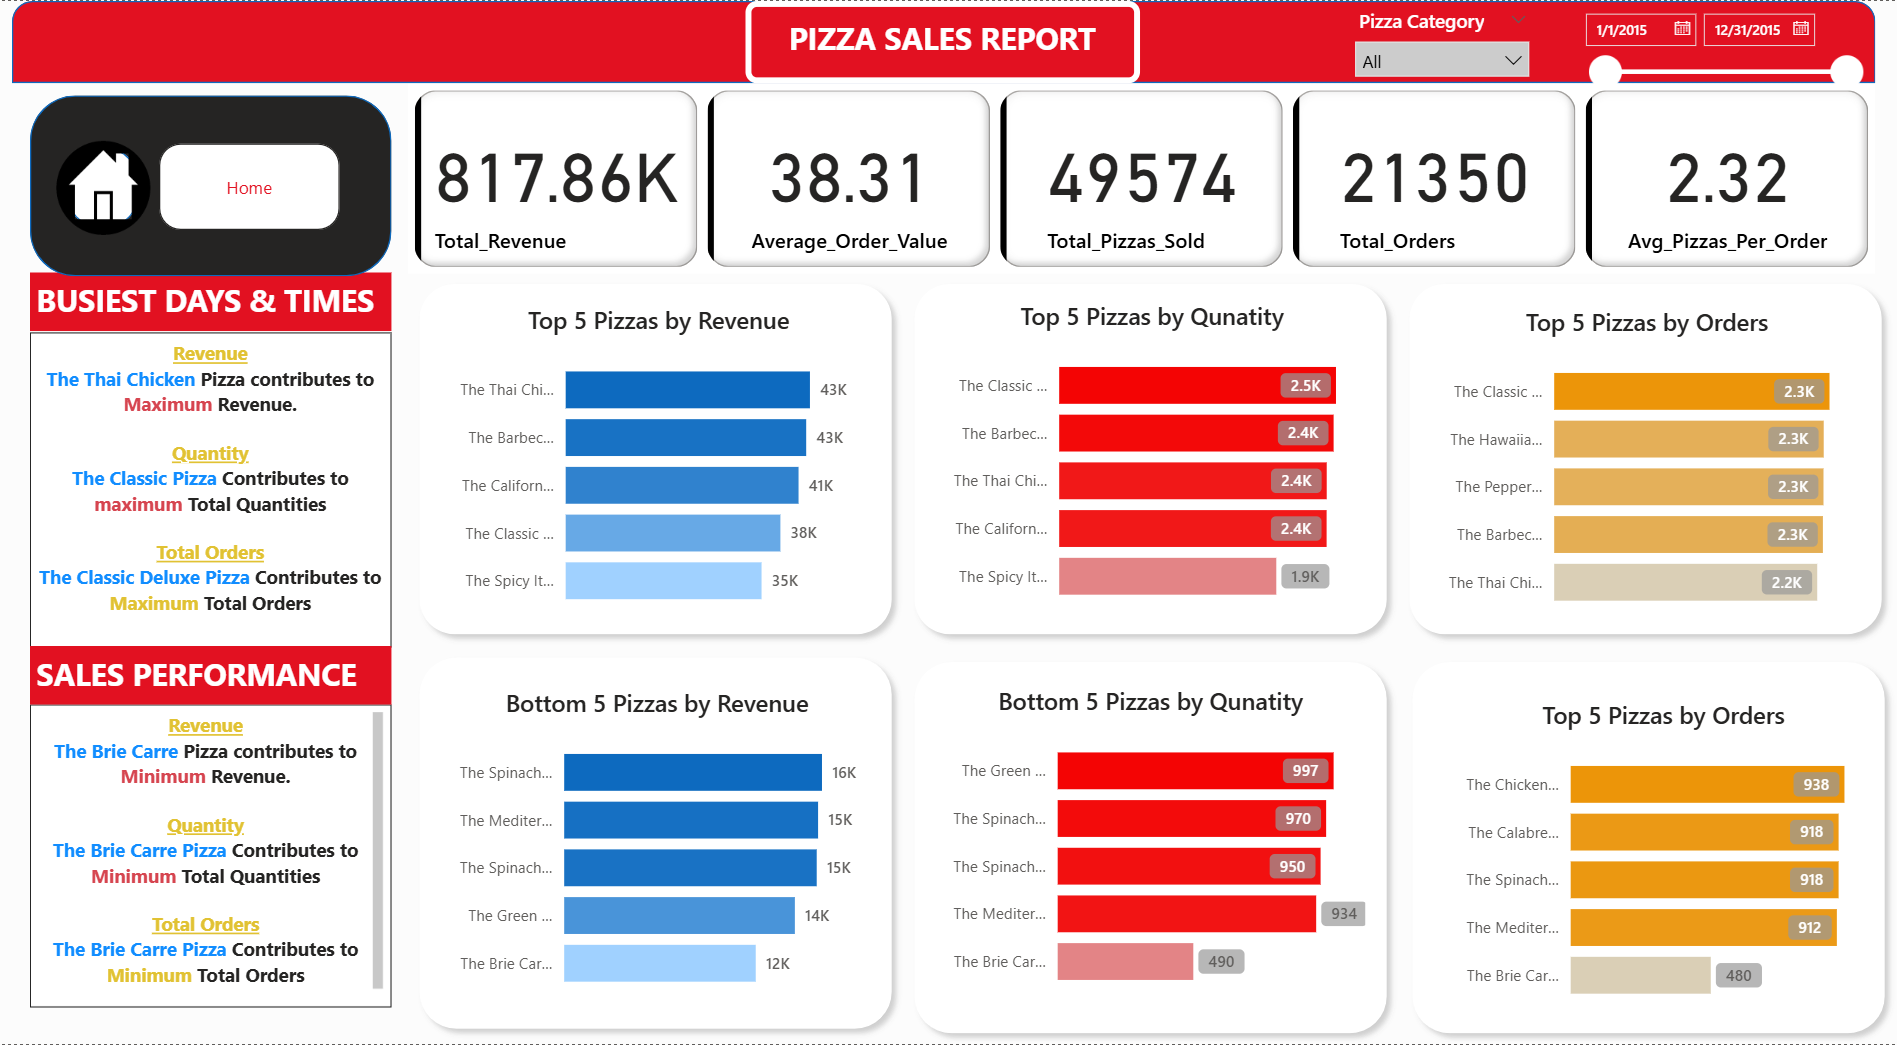

The page's visual inventory and layout, read from the dashboard file:
{"tool":"powerbi","page":{"name":"Best/Worst Sellers","canvas":[1500,820],"ordinal":1},"visuals":[{"type":"cardVisual","fields":{"Data":["pizza_sales.Total_Revenue","pizza_sales.Average_Order_Value","pizza_sales.Total_Pizzas_Sold","pizza_sales.Total_Orders","pizza_sales.Avg_Pizzas_Per_Order"]},"box":[330.1,64.5,1152.6,149.4],"z":1000},{"type":"shape","box":[18.4,0,1464.2,64.5],"z":2000},{"type":"textbox","box":[595.7,0,309.8,64.5],"z":3000},{"type":"shape","box":[330.1,213.9,389.1,293.2],"z":4000},{"type":"textbox","box":[33.2,213.9,284,46.1],"z":5000},{"type":"textbox","box":[33.2,260,284,247.1],"z":6000},{"type":"textbox","box":[33.2,553.2,284,237.9],"z":7000},{"type":"textbox","box":[33.2,507.1,284,46.1],"z":8000},{"type":"slicer","fields":{"Values":["pizza_sales.pizza_category"]},"box":[1064.1,0,156.8,73.8],"z":9000},{"type":"slicer","fields":{"Values":["pizza_sales.order_date"]},"box":[1242.4,0,239.3,74.6],"z":10000},{"type":"shape","box":[330.1,507.1,389.1,309.8],"z":11000},{"type":"shape","box":[719.2,213.9,389.1,293.2],"z":12000},{"type":"shape","box":[1108.3,213.9,389.1,293.2],"z":13000},{"type":"shape","box":[719.2,510.8,389.1,309.8],"z":14000},{"type":"shape","box":[1110.2,510.8,389.1,309.8],"z":15000},{"type":"barChart","title":"Top 5 Pizzas by Revenue","fields":{"Category":["pizza_sales.pizza_name"],"Y":["pizza_sales.Total_Revenue"]},"box":[354.1,237.9,346.7,252.6],"z":16000},{"type":"barChart","title":"Bottom 5 Pizzas by Revenue","fields":{"Category":["pizza_sales.pizza_name"],"Y":["pizza_sales.Total_Revenue"]},"box":[352.2,538.5,346.7,252.6],"z":17000},{"type":"barChart","title":"Top 5 Pizzas by Qunatity","fields":{"Category":["pizza_sales.pizza_name"],"Y":["pizza_sales.Total_Pizzas_Sold"]},"box":[741.3,234.2,346.7,252.6],"z":18000},{"type":"barChart","title":"Bottom 5 Pizzas by Qunatity","fields":{"Category":["pizza_sales.pizza_name"],"Y":["pizza_sales.Total_Pizzas_Sold"]},"box":[739.8,537.8,346.8,252.4],"z":19000},{"type":"barChart","title":"Top 5 Pizzas by Orders","fields":{"Category":["pizza_sales.pizza_name"],"Y":["pizza_sales.Total_Orders"]},"box":[1130.4,239.7,346.7,252.6],"z":20000},{"type":"barChart","title":"Top 5 Pizzas by Orders","fields":{"Category":["pizza_sales.pizza_name"],"Y":["pizza_sales.Total_Orders"]},"box":[1143.4,547.7,346.7,252.6],"z":21000},{"type":"shape","box":[33.2,73.8,284,142],"z":22000},{"type":"pageNavigator","box":[134.6,112.2,142.8,68.3],"z":23000},{"type":"shape","box":[60.2,114.2,60.2,65],"z":24000},{"type":"image","box":[47.9,102,84.7,88.7],"z":25000}]}

Visuals, with their boxes in screenshot pixels (x1, y1, x2, y2), scaled from the page's 1500x820 canvas onto the 1897x1045 screenshot:
cardVisual - pizza_sales.Total_Revenue x pizza_sales.Average_Order_Value: [x1=417, y1=82, x2=1875, y2=273]
shape: [x1=23, y1=0, x2=1875, y2=82]
textbox: [x1=753, y1=0, x2=1145, y2=82]
shape: [x1=417, y1=273, x2=910, y2=646]
textbox: [x1=42, y1=273, x2=401, y2=331]
textbox: [x1=42, y1=331, x2=401, y2=646]
textbox: [x1=42, y1=705, x2=401, y2=1008]
textbox: [x1=42, y1=646, x2=401, y2=705]
slicer - pizza_sales.pizza_category: [x1=1346, y1=0, x2=1544, y2=94]
slicer - pizza_sales.order_date: [x1=1571, y1=0, x2=1874, y2=95]
shape: [x1=417, y1=646, x2=910, y2=1041]
shape: [x1=910, y1=273, x2=1402, y2=646]
shape: [x1=1402, y1=273, x2=1894, y2=646]
shape: [x1=910, y1=651, x2=1402, y2=1044]
shape: [x1=1404, y1=651, x2=1896, y2=1044]
"Top 5 Pizzas by Revenue" barChart: [x1=448, y1=303, x2=886, y2=625]
"Bottom 5 Pizzas by Revenue" barChart: [x1=445, y1=686, x2=884, y2=1008]
"Top 5 Pizzas by Qunatity" barChart: [x1=937, y1=298, x2=1376, y2=620]
"Bottom 5 Pizzas by Qunatity" barChart: [x1=936, y1=685, x2=1374, y2=1007]
"Top 5 Pizzas by Orders" barChart: [x1=1430, y1=305, x2=1868, y2=627]
"Top 5 Pizzas by Orders" barChart: [x1=1446, y1=698, x2=1884, y2=1020]
shape: [x1=42, y1=94, x2=401, y2=275]
pageNavigator: [x1=170, y1=143, x2=351, y2=230]
shape: [x1=76, y1=146, x2=152, y2=228]
image: [x1=61, y1=130, x2=168, y2=243]
